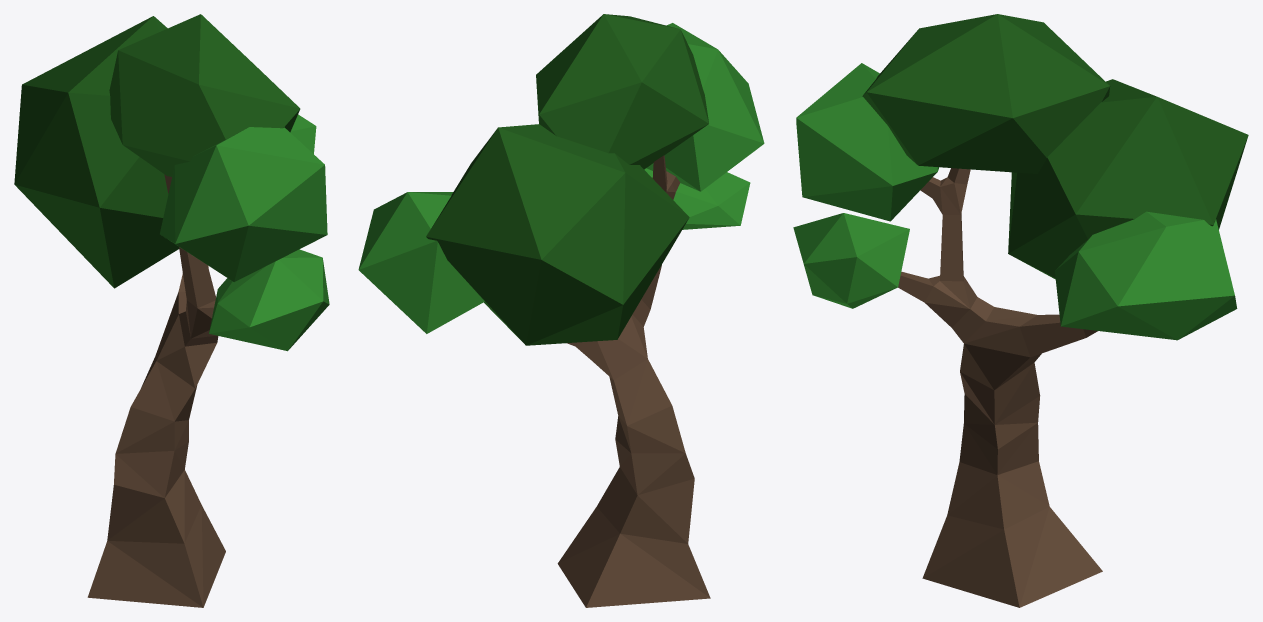
The model's file is tree2.glb.
3 renders of one model, left to right at view 1: azimuth 30°, elevation 25°; view 2: azimuth 150°, elevation 25°; view 3: azimuth 270°, elevation 25°, orthographic. The views are drawn at different scales.
Parts seen in each view (by area): view 1: Leaves.001, Trunk.001; view 2: Leaves.001, Trunk.001; view 3: Leaves.001, Trunk.001.
Boxes of the visible parts, box(x1,y1,x2,y2) form: Leaves.001: box(14, 14, 329, 351); Trunk.001: box(87, 174, 225, 607); Leaves.001: box(358, 14, 764, 345); Trunk.001: box(557, 155, 710, 607); Leaves.001: box(793, 14, 1248, 340); Trunk.001: box(898, 168, 1102, 607).
Bounding box in the file's own units: 2.9 × 5.46 × 3.88.
